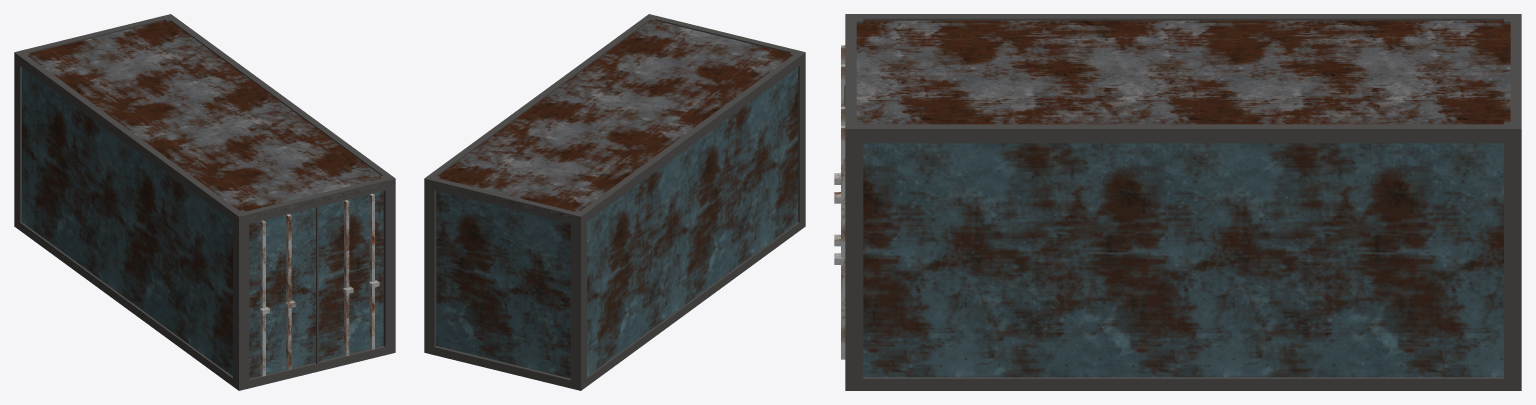
Rendered from container_20_azul.glb.
The picture shows the model from 3 angles, left to right: view 1: azimuth 30°, elevation 25°; view 2: azimuth 150°, elevation 25°; view 3: azimuth 270°, elevation 25°; orthographic projection. The views are drawn at different scales.
Visible parts, largest first — view 1: cont_azul; view 2: cont_azul; view 3: cont_azul.
Part boxes in pixels (x1=…): cont_azul: x1=14, y1=14, x2=395, y2=390; cont_azul: x1=424, y1=14, x2=805, y2=390; cont_azul: x1=834, y1=14, x2=1521, y2=390.
Bounding box in the file's own units: 2.44 × 2.59 × 6.16.
Materials: 4 (3 with a texture image).
